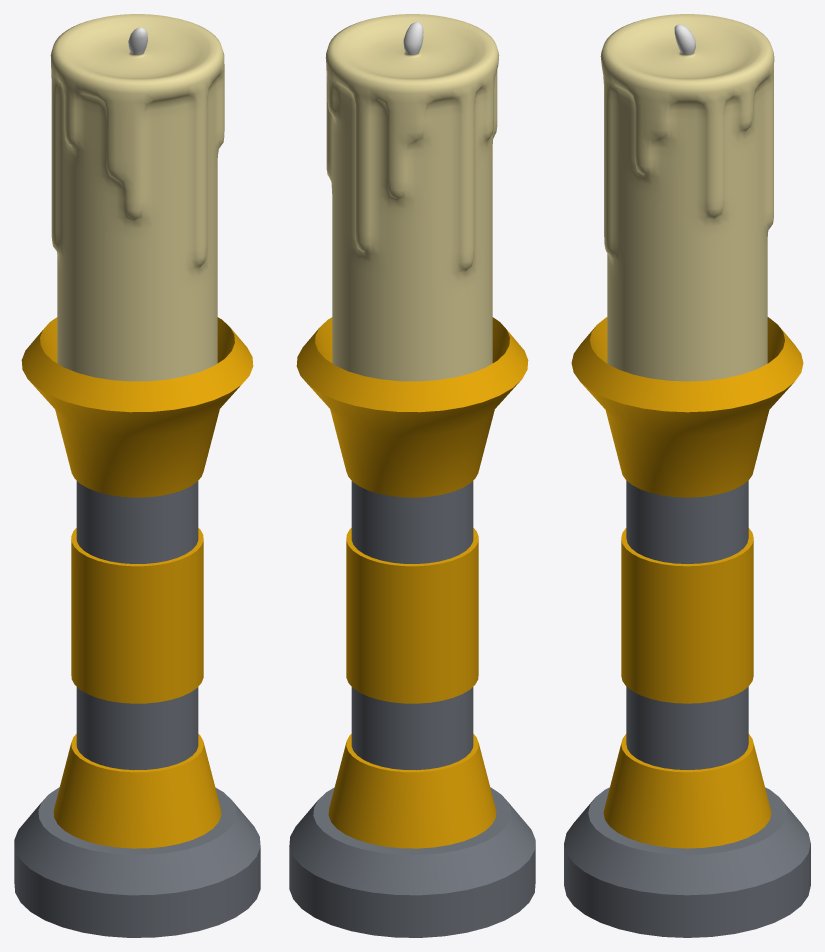
The model's file is mum.fbx.
3 views of the same model, side by side, from view 1: azimuth 30°, elevation 25°; view 2: azimuth 150°, elevation 25°; view 3: azimuth 270°, elevation 25° (orthographic).
Parts seen in each view (by area): view 1: Cylinder.001, Cylinder; view 2: Cylinder.001, Cylinder; view 3: Cylinder.001, Cylinder.
Boxes of the visible parts, <box> form: Cylinder.001: <box>14,317,260,937</box>; Cylinder: <box>50,14,224,381</box>; Cylinder.001: <box>289,317,535,937</box>; Cylinder: <box>325,14,499,381</box>; Cylinder.001: <box>564,317,810,937</box>; Cylinder: <box>600,14,774,381</box>.
Size of the model in its own units: 71.85 by 277 by 71.85.
